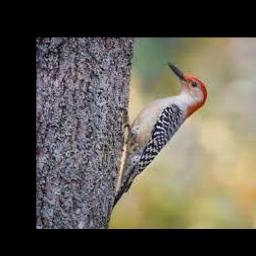Woodpecker: (111, 62, 208, 210)
